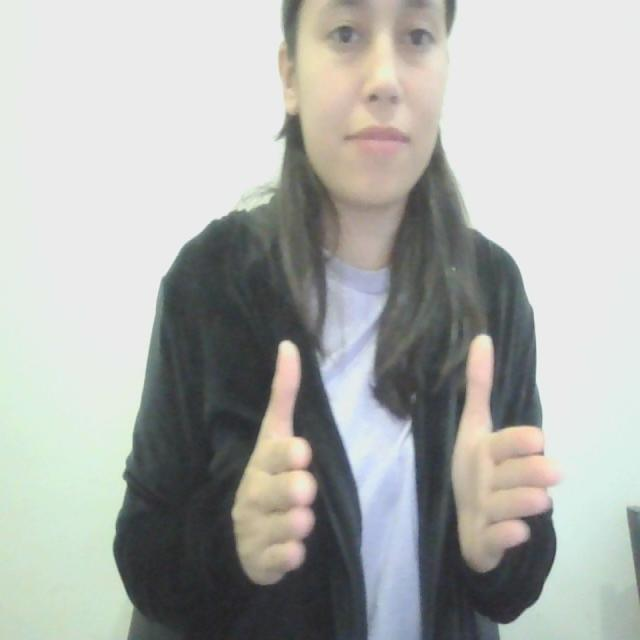Nasil: (229, 316, 566, 598)
